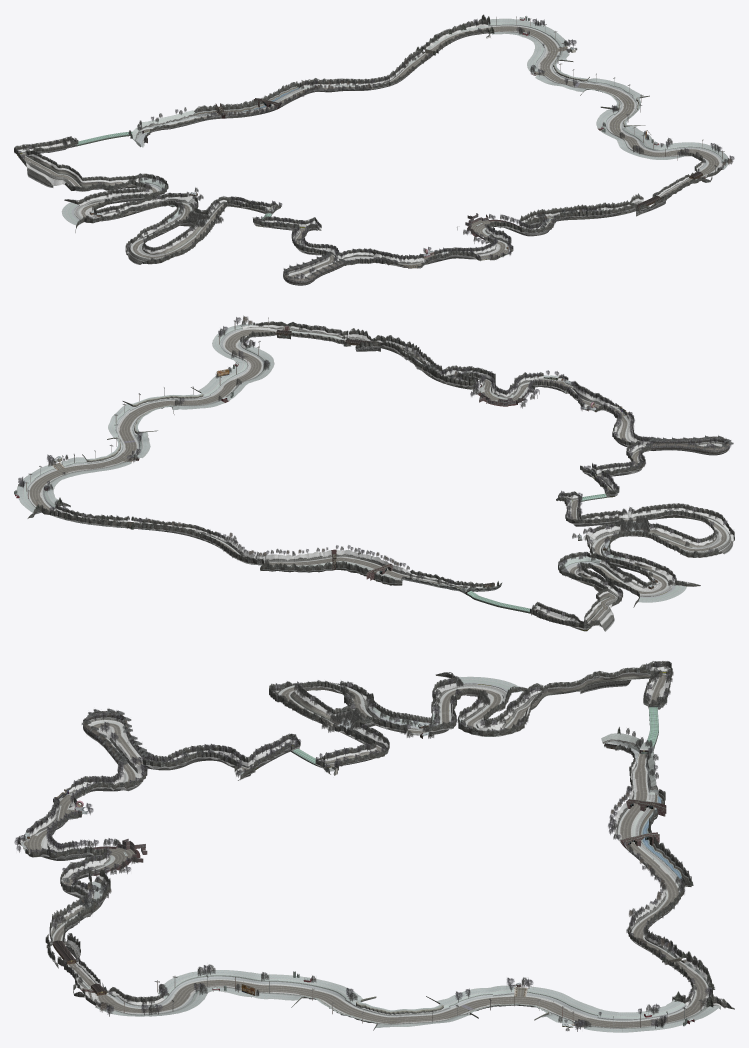
File: nfs_iii_hot_pursuit_-_country_woods.glb
3 renders of one model, top to bottom at view 1: azimuth 30°, elevation 25°; view 2: azimuth 150°, elevation 25°; view 3: azimuth 270°, elevation 25°, orthographic. The views are drawn at different scales.
Parts seen in each view (by area): view 1: 0001_material_atlas_00002_1_0; view 2: 0001_material_atlas_00002_1_0; view 3: 0001_material_atlas_00002_1_0.
Boxes of the visible parts, bbox=[...] form: 0001_material_atlas_00002_1_0: bbox=[14, 14, 734, 285]; 0001_material_atlas_00002_1_0: bbox=[14, 315, 734, 631]; 0001_material_atlas_00002_1_0: bbox=[14, 661, 734, 1032].
Bounding box in the file's own units: 2012 × 122 × 1608.
Materials: 1 (1 with a texture image).
